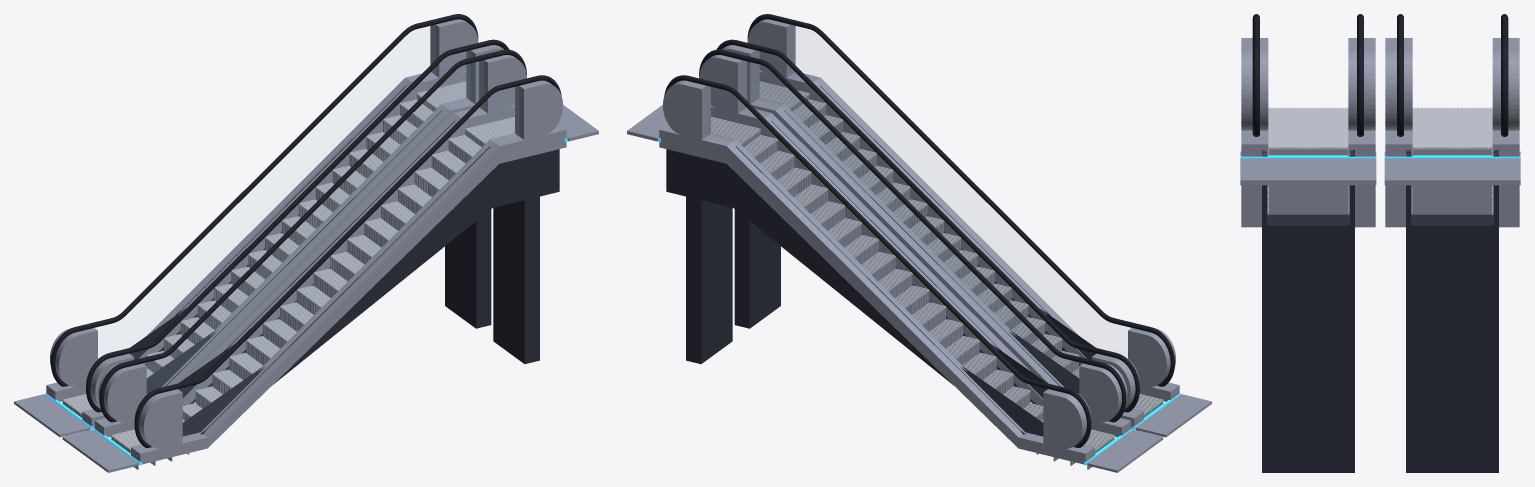
The model's file is str-015.glb.
3 renders of one model, left to right at view 1: azimuth 30°, elevation 25°; view 2: azimuth 150°, elevation 25°; view 3: azimuth 270°, elevation 25°, orthographic. The views are drawn at different scales.
Visible parts, largest first — view 1: brushed_steel, truss_navy, handrail_rubber, step_steel, balustrade_glass; view 2: brushed_steel, truss_navy, handrail_rubber, step_steel, balustrade_glass; view 3: truss_navy, brushed_steel, step_steel, handrail_rubber, accent_blue.
Boxes of the visible parts, x1,y1,x2,y2 form: brushed_steel: (14, 19, 598, 472); truss_navy: (129, 149, 559, 436); handrail_rubber: (51, 14, 561, 447); step_steel: (62, 81, 514, 450); balustrade_glass: (143, 64, 484, 393); brushed_steel: (627, 19, 1211, 472); truss_navy: (666, 149, 1096, 436); handrail_rubber: (664, 14, 1174, 447); step_steel: (711, 81, 1163, 450); balustrade_glass: (741, 64, 1082, 393); truss_navy: (1262, 150, 1498, 472); brushed_steel: (1240, 38, 1520, 227); step_steel: (1268, 107, 1492, 214); handrail_rubber: (1252, 14, 1508, 136); accent_blue: (1240, 155, 1520, 158).
Bounding box in the file's own units: 10.5 × 6.14 × 3.5.
